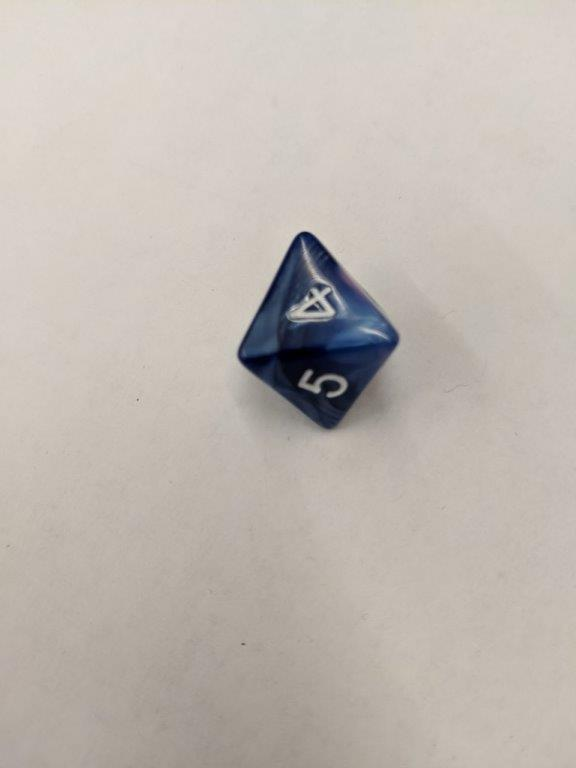d8-4: (236, 231, 404, 432)
